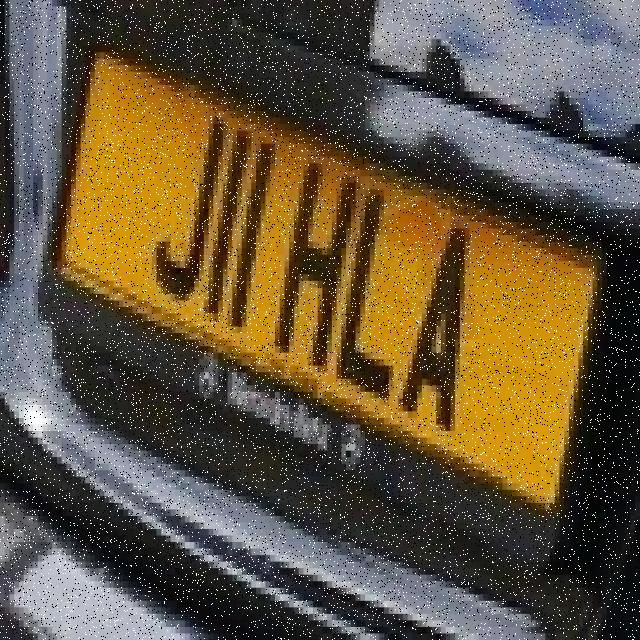licenseplate: (63, 22, 602, 511)
